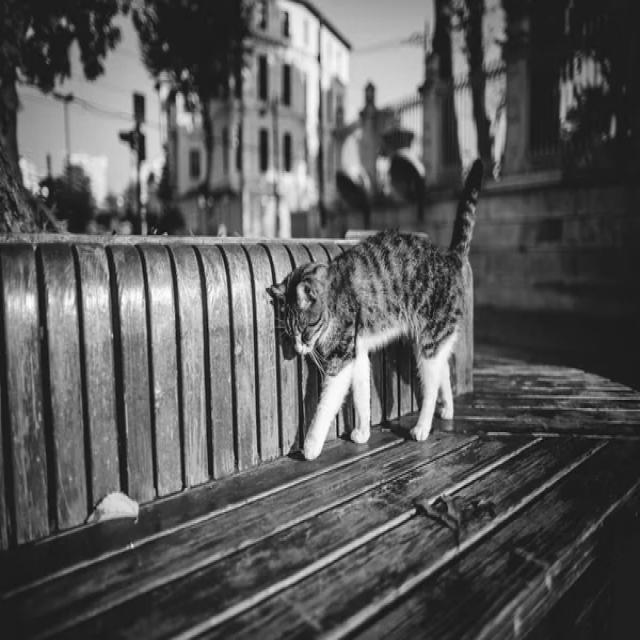Animal: (270, 160, 483, 460)
